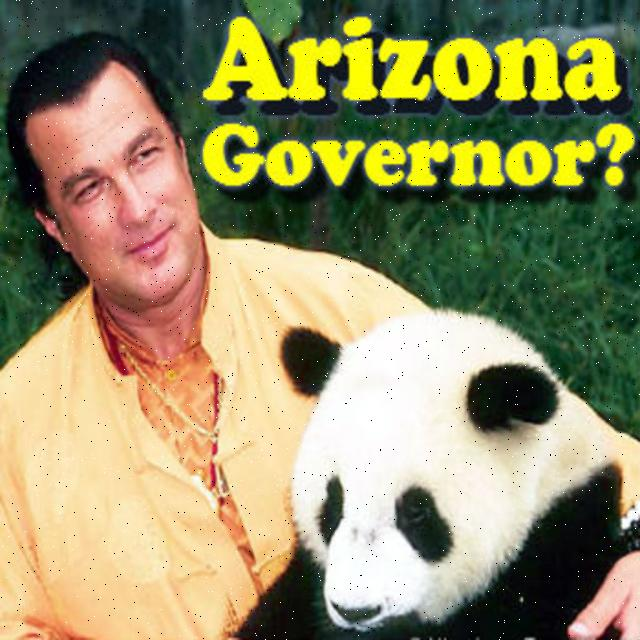panda: (263, 290, 640, 640)
